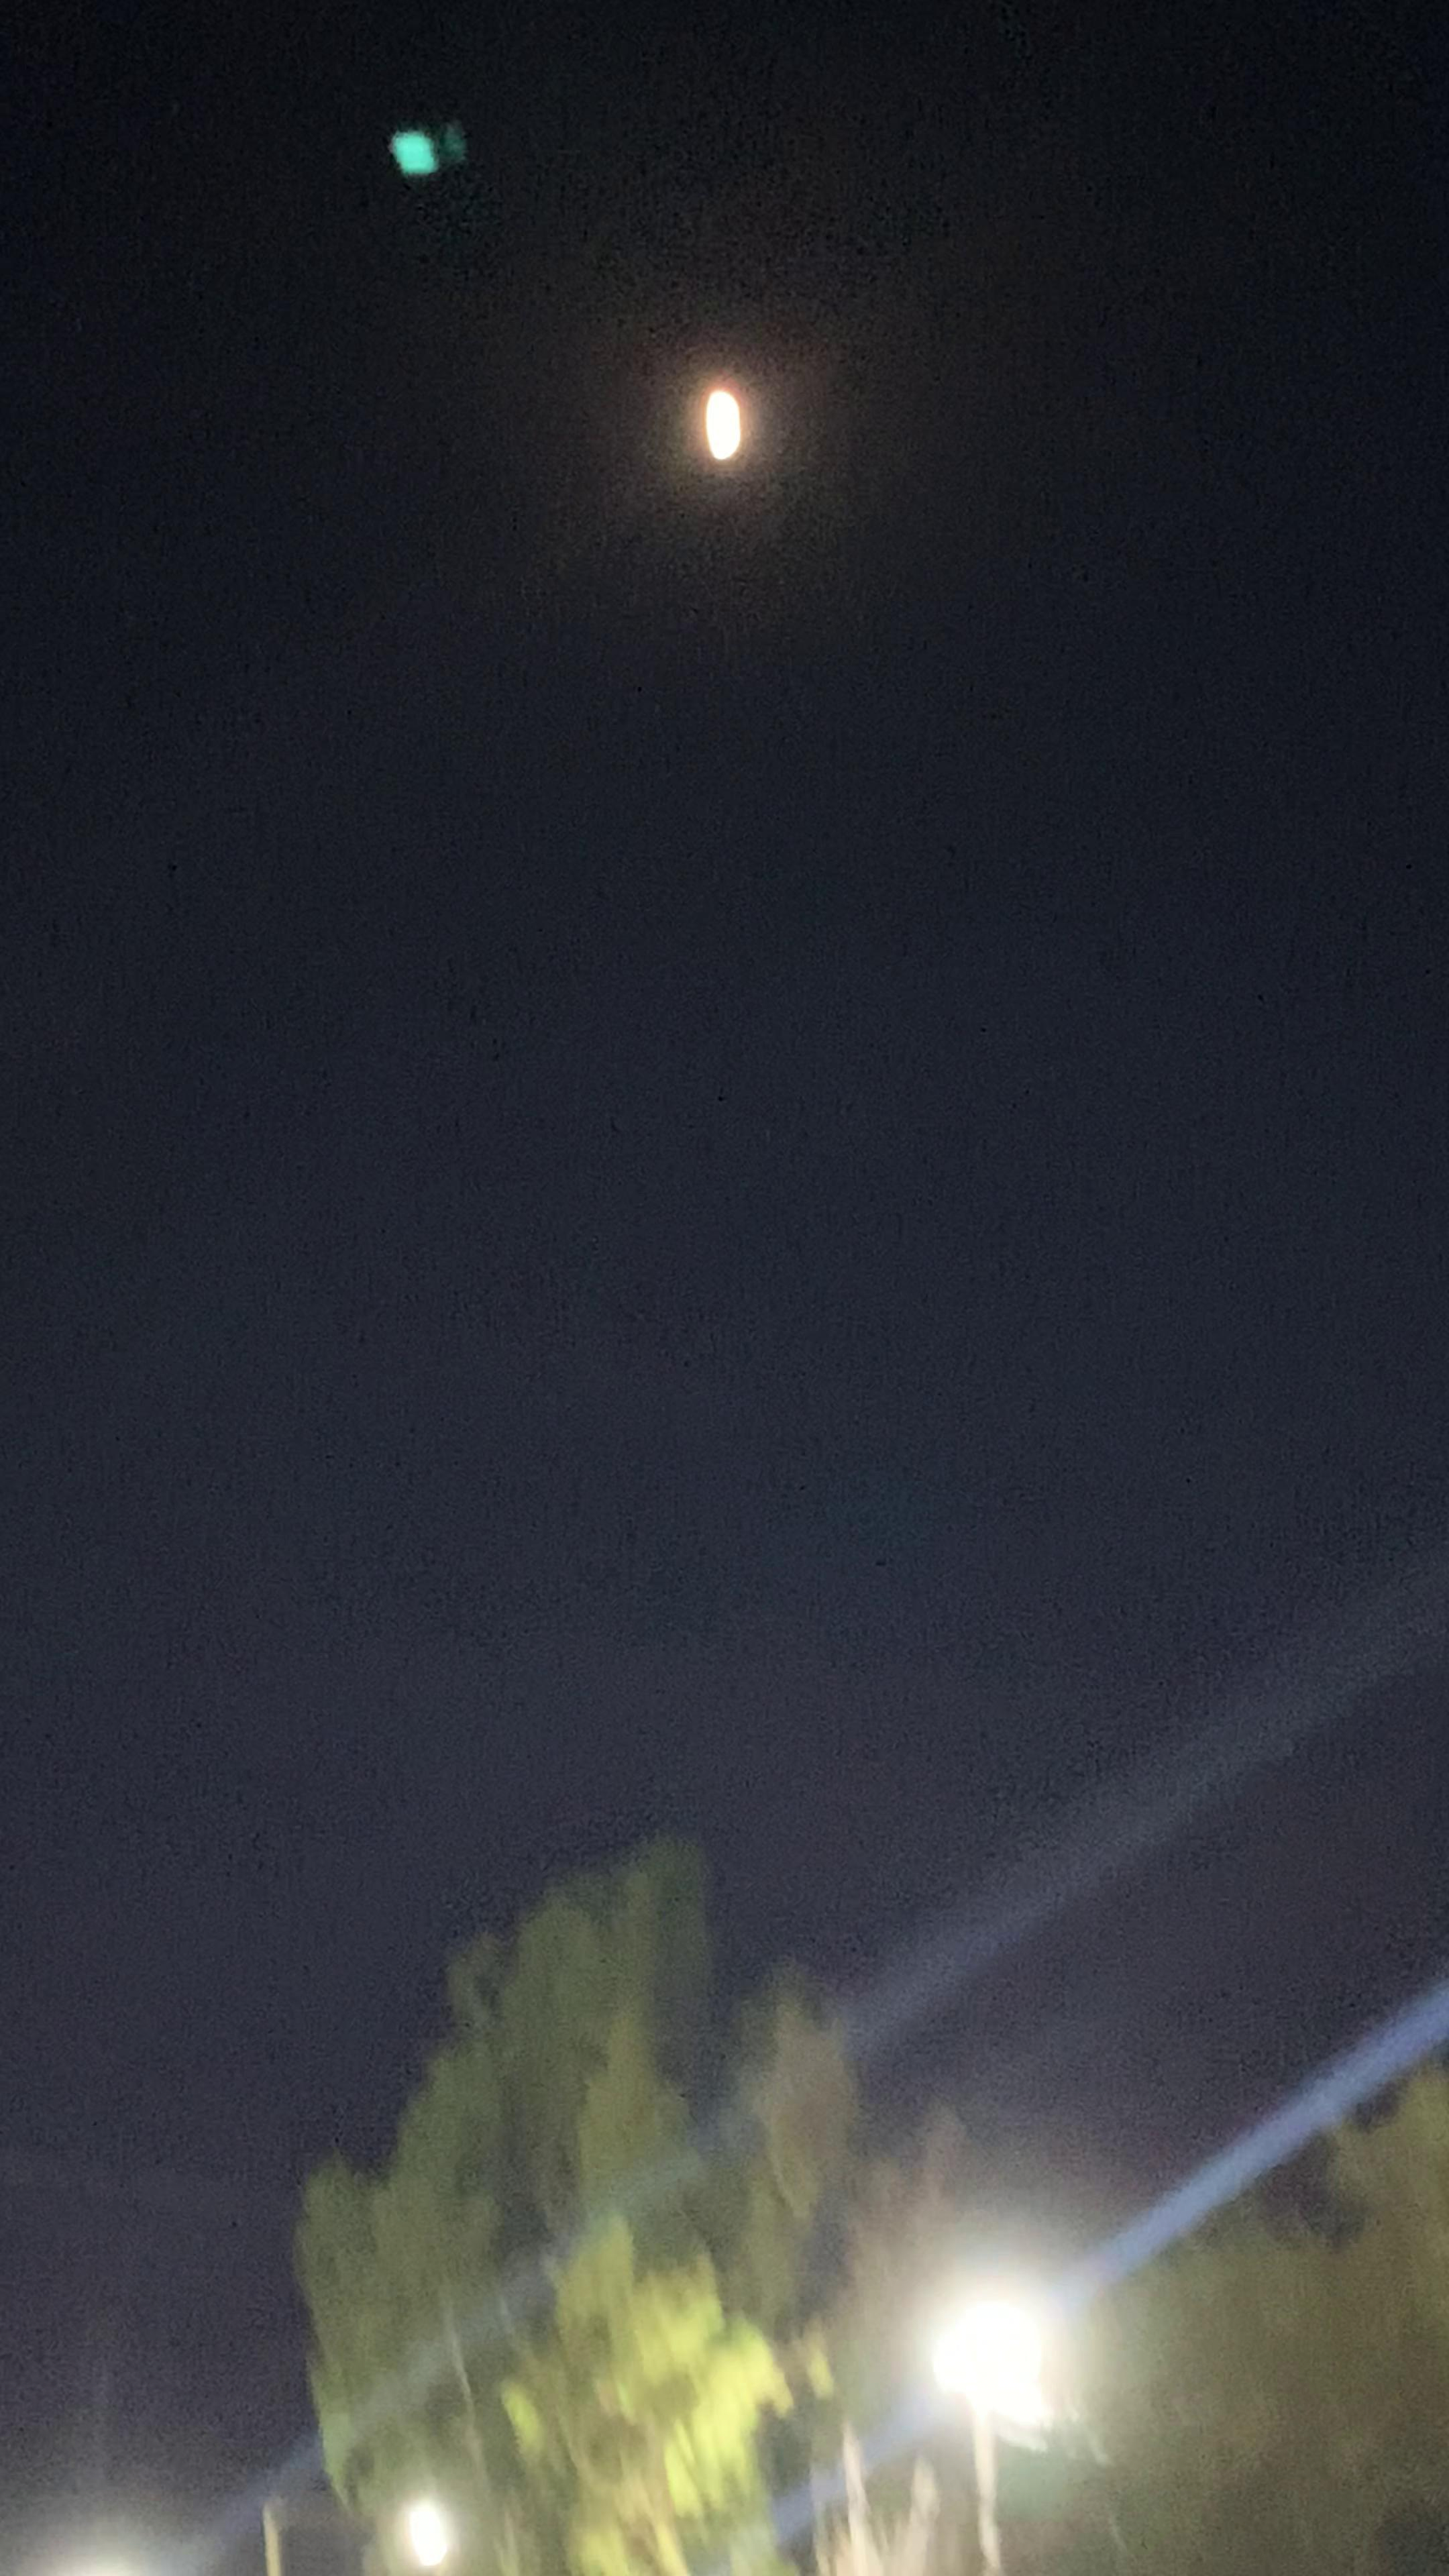moon: (658, 370, 819, 515)
